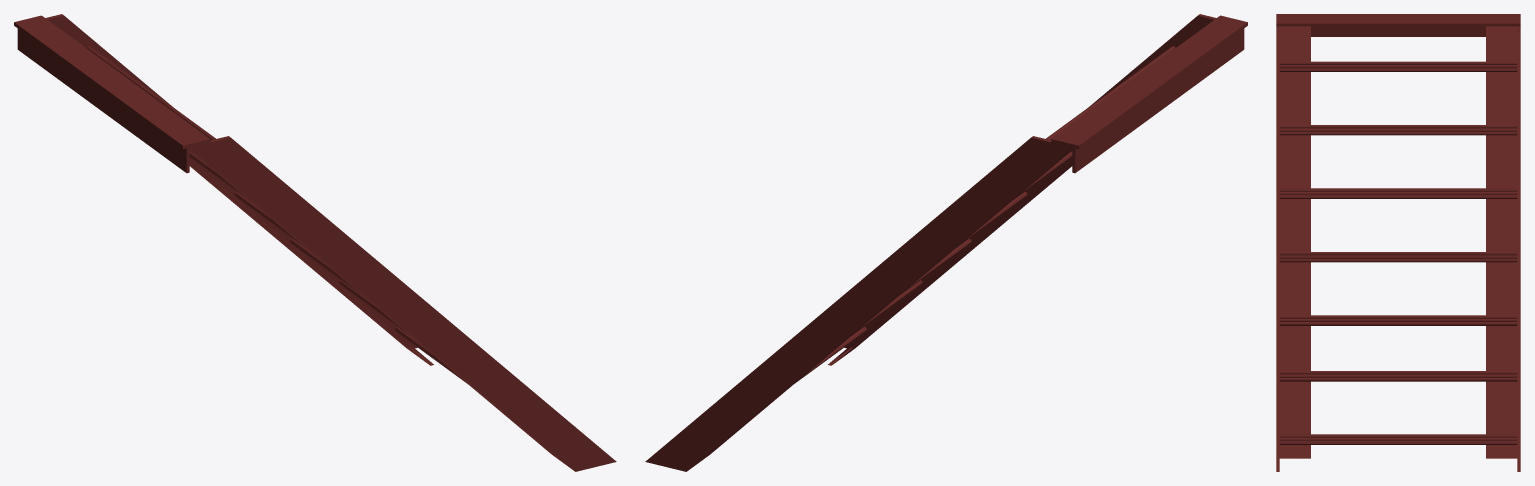
Rendered from p3-balkon-stairs-ground.fbx.
3 renders of one model, left to right at view 1: azimuth 30°, elevation 25°; view 2: azimuth 150°, elevation 25°; view 3: azimuth 270°, elevation 25°, orthographic. The views are drawn at different scales.
Visible parts, largest first — view 1: p3-balkon-ground-stairs; view 2: p3-balkon-ground-stairs; view 3: p3-balkon-ground-stairs.
Part boxes in pixels (left/top/right/bottom): p3-balkon-ground-stairs: left=14, top=14, right=616, bottom=471; p3-balkon-ground-stairs: left=645, top=14, right=1247, bottom=471; p3-balkon-ground-stairs: left=1276, top=14, right=1520, bottom=471.
Bounding box in the file's own units: 161 × 149 × 108.
